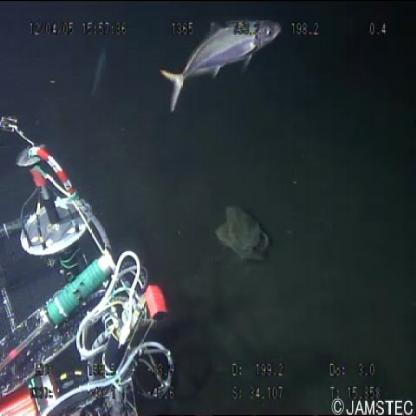Bio: (155, 15, 284, 121)
Rov: (1, 108, 184, 414)
Rác: (213, 204, 275, 264)
